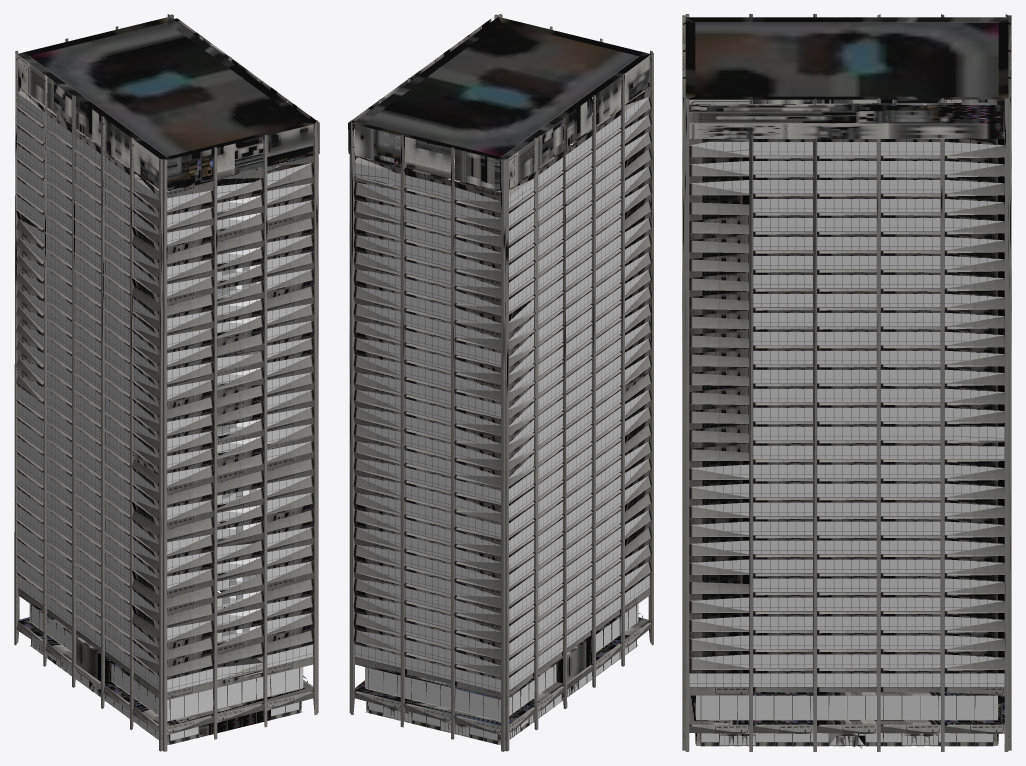
Rendered from grid_tower_lod1.glb.
3 views of the same model, side by side, from view 1: azimuth 30°, elevation 25°; view 2: azimuth 150°, elevation 25°; view 3: azimuth 270°, elevation 25° (orthographic). The views are drawn at different scales.
Parts seen in each view (by area): view 1: grid_tower; view 2: grid_tower; view 3: grid_tower.
Boxes of the visible parts, x1,y1,x2,y2 form: grid_tower: (14, 14, 319, 751); grid_tower: (348, 14, 653, 751); grid_tower: (682, 14, 1011, 751).
Size of the model in its own units: 60.55 by 212 by 96.85.
7 materials, 6 textured.
